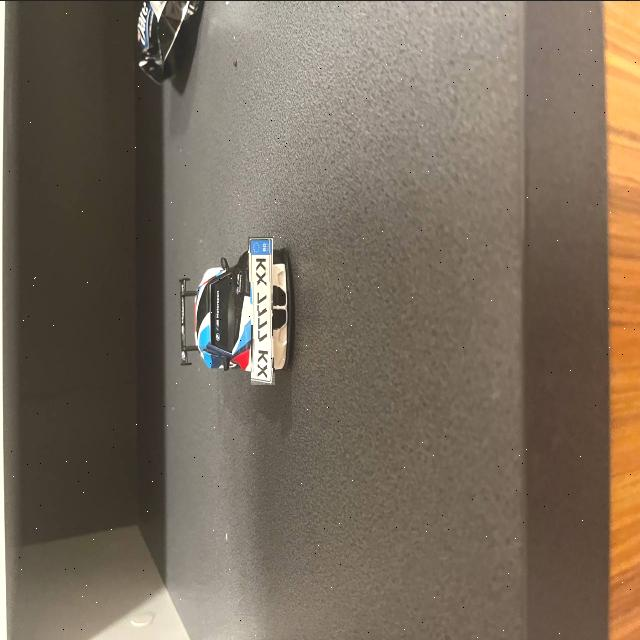KX 7777 KX: (250, 235, 274, 384)
